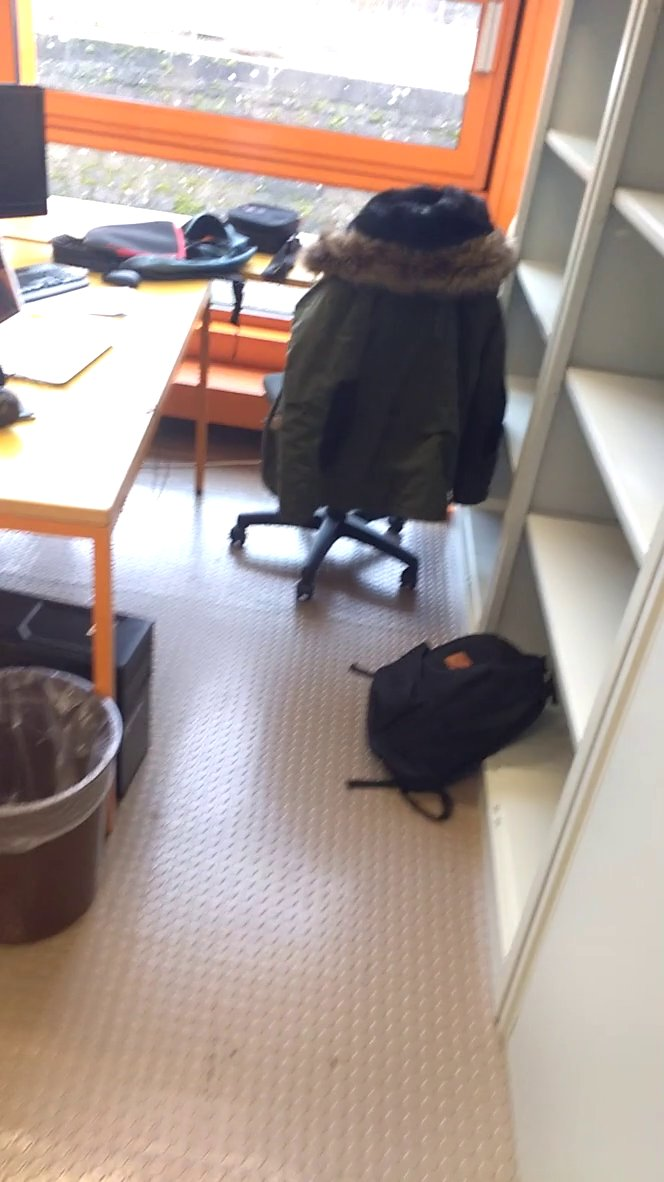bag: (344, 619, 571, 829)
bin: (1, 630, 131, 964)
